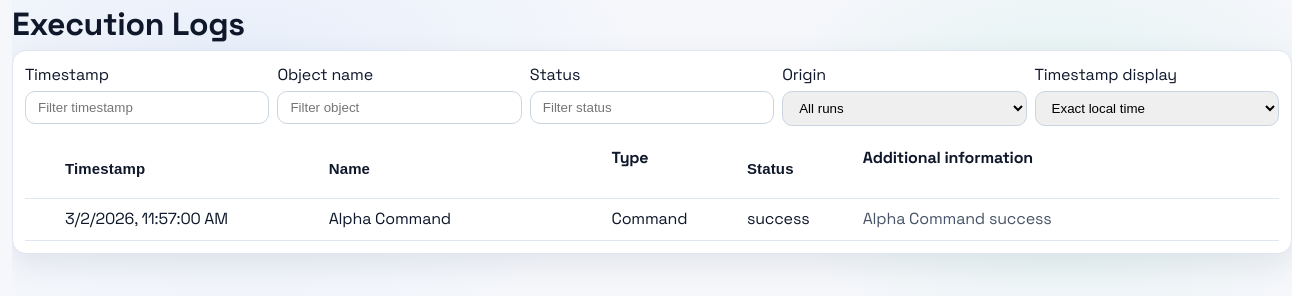
Test case: ExecutionLogsPage › defaults to exact local timestamp and switches to relative mode
Expected: the text "Alpha Command" is shown, x1=321 y1=199 x2=604 y2=241
Step 1. Select "Relative time" in the dropdown labelled "Timestamp display" → (1157, 109), box x1=1035 y1=91 x2=1279 y2=126
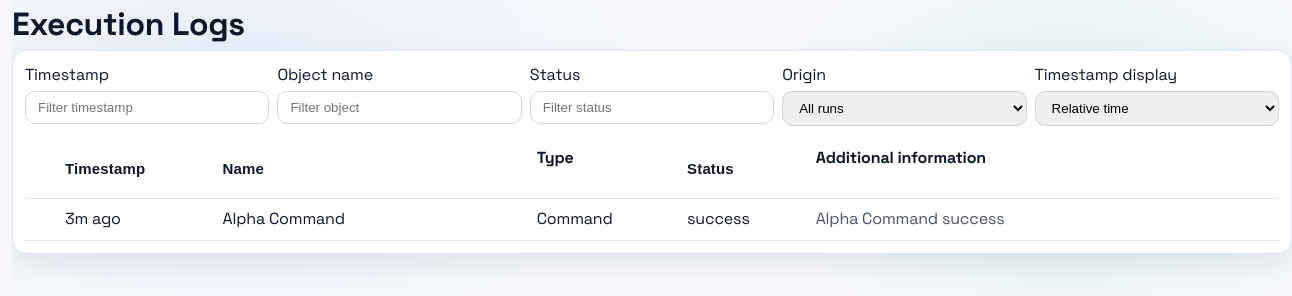
Now the text "3m ago" is shown, box x1=57 y1=199 x2=214 y2=241
